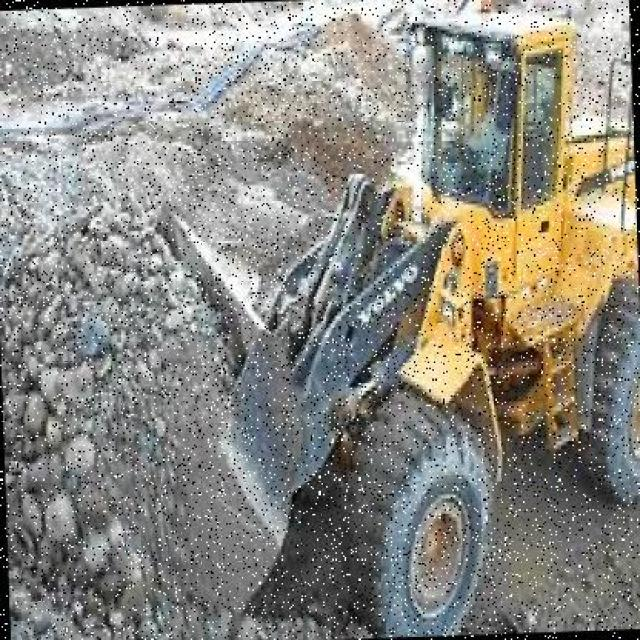buldozerpayloadergrader: (275, 0, 639, 635)
